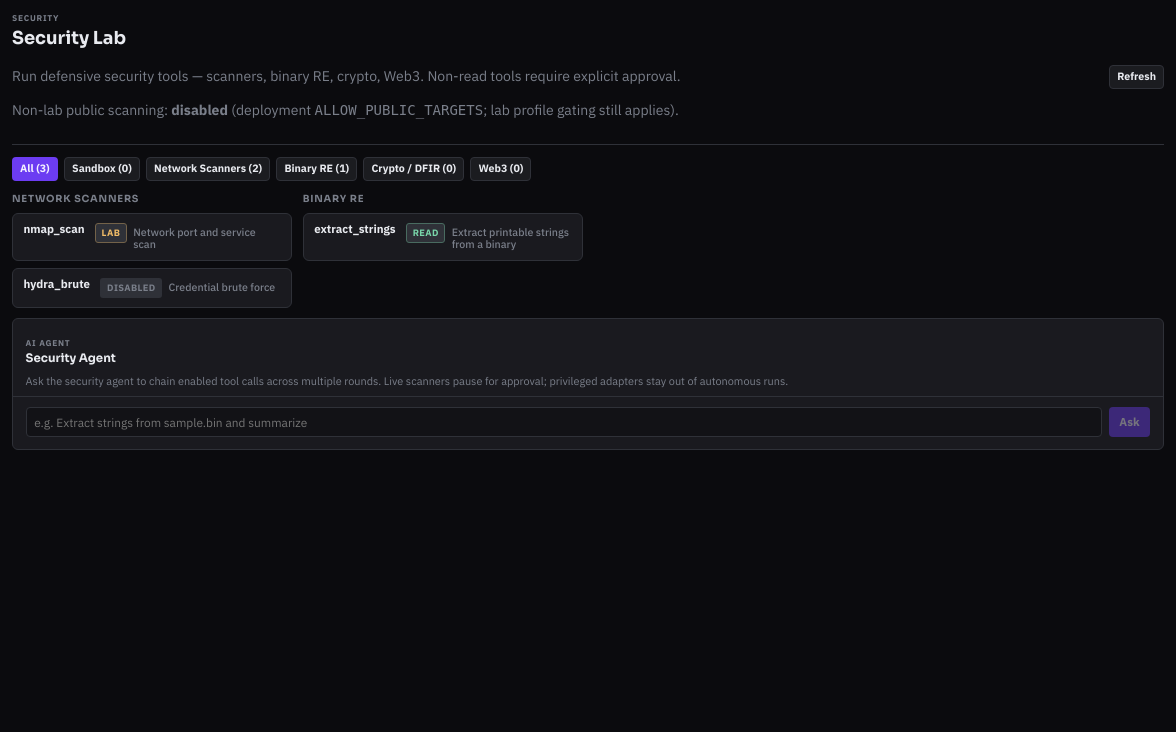
Test: Security Lab capability gating › builds the argument form from the schema the capability matrix returns
Click the text "nmap_scan": point(54, 229) [24,223,84,236]
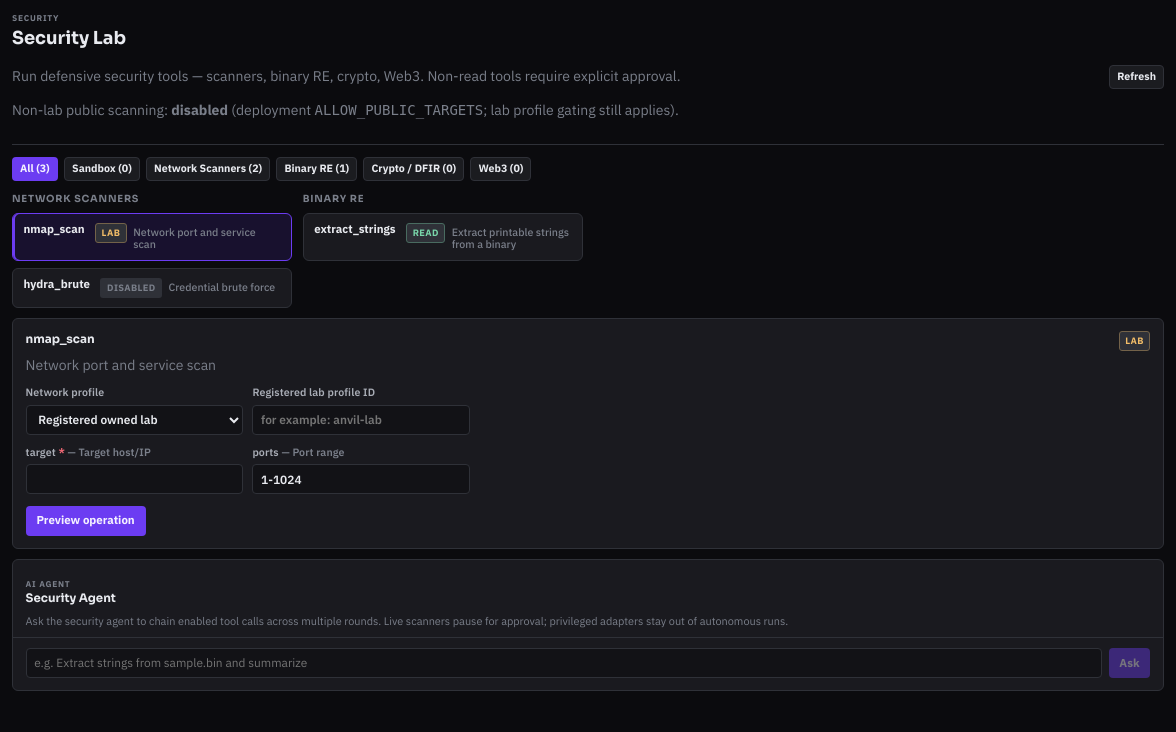
Now the text "target" is shown, box [26,445,56,459]
Now the text "ports" is shown, box [252,445,279,459]
Now the text "Target host/IP" is shown, box [78,445,151,459]
